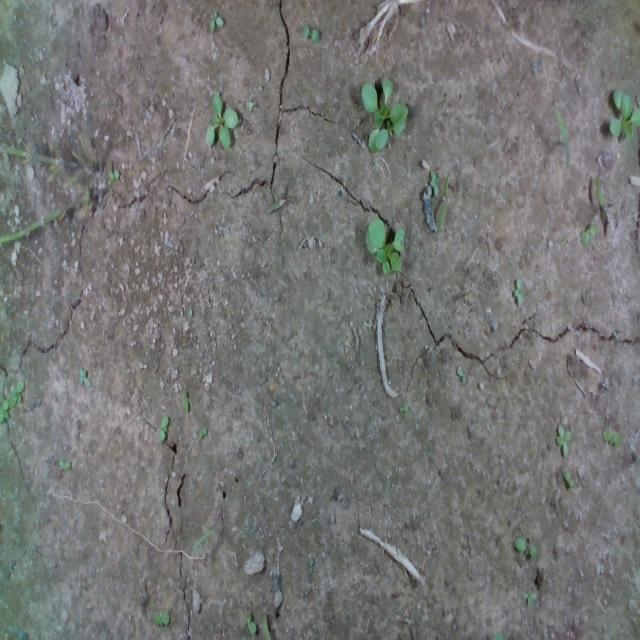weed: (50, 452, 76, 478), (555, 421, 573, 458), (75, 358, 91, 394), (300, 22, 322, 46), (511, 264, 523, 308), (156, 410, 169, 447), (207, 8, 225, 34), (521, 586, 541, 609), (428, 162, 440, 196), (179, 388, 191, 420), (198, 425, 210, 447), (108, 167, 126, 181)
